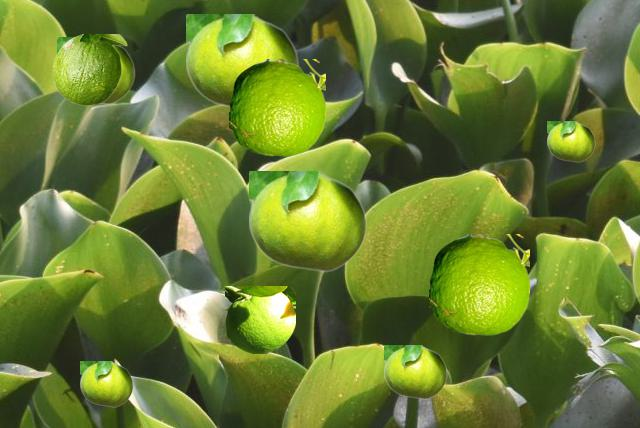dalandan: (249, 171, 366, 271), (186, 14, 298, 107), (429, 234, 528, 334), (229, 59, 324, 155), (52, 34, 126, 104), (57, 37, 134, 103), (225, 286, 294, 352), (384, 345, 446, 398), (80, 361, 132, 406), (547, 121, 594, 161)
